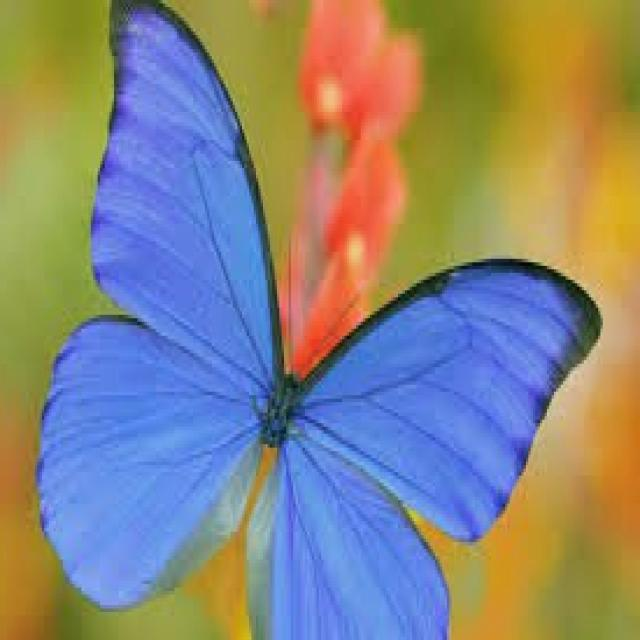butterfly: (40, 0, 600, 637)
